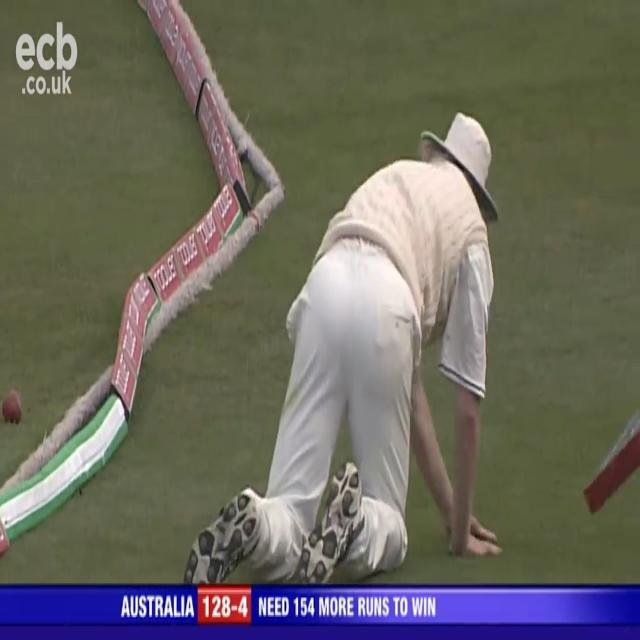ball: (1, 385, 25, 428)
